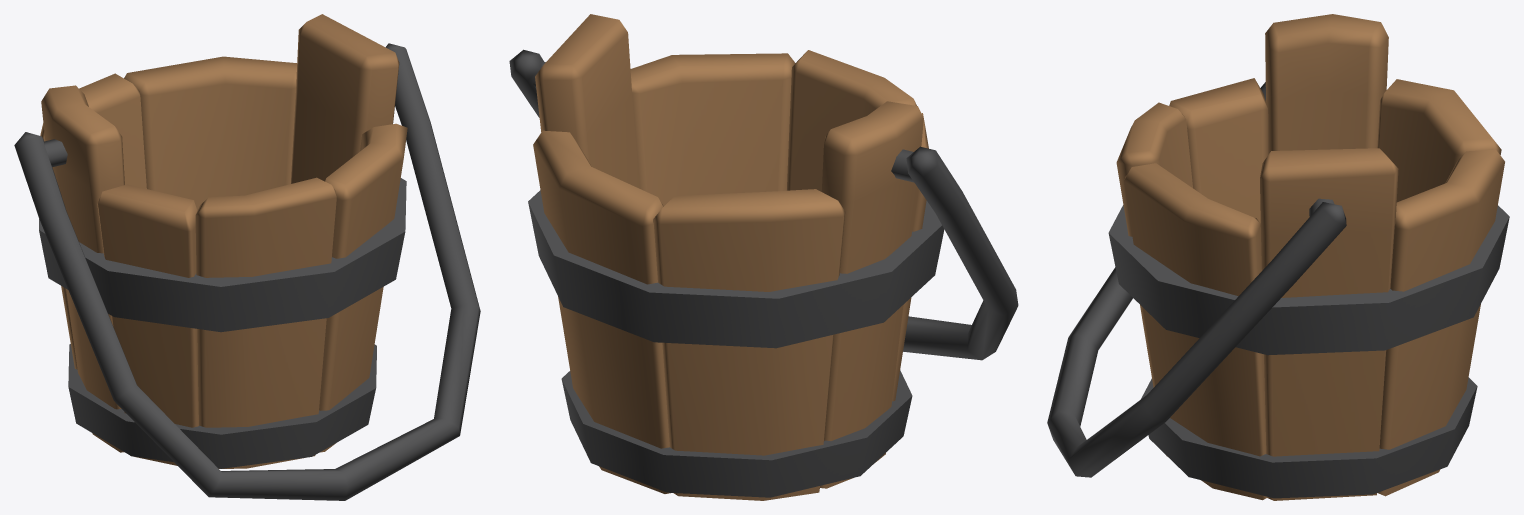
The model's file is Bucket_Wood_A.fbx.
3 views of the same model, side by side, from view 1: azimuth 30°, elevation 25°; view 2: azimuth 150°, elevation 25°; view 3: azimuth 270°, elevation 25° (orthographic). The views are drawn at different scales.
Visible parts, largest first — view 1: Bucket_Wood_A; view 2: Bucket_Wood_A; view 3: Bucket_Wood_A.
Boxes of the visible parts, box(x1,y1,x2,y2) form: Bucket_Wood_A: box(14, 14, 480, 500); Bucket_Wood_A: box(509, 14, 1018, 500); Bucket_Wood_A: box(1047, 14, 1509, 500).
Size of the model in its own units: 50.52 by 41.84 by 49.35.
